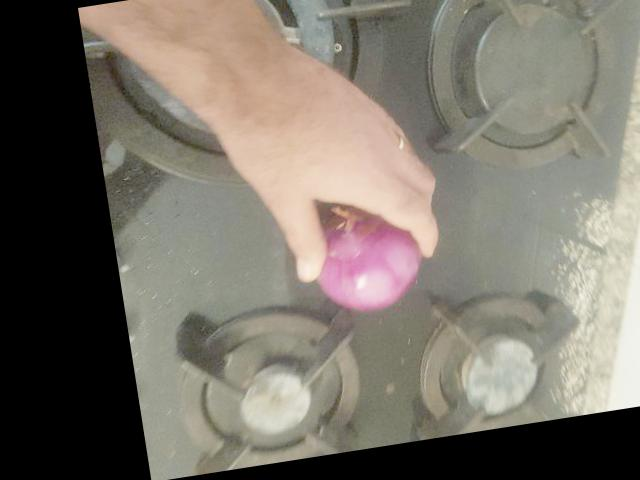onion: (298, 197, 424, 320)
